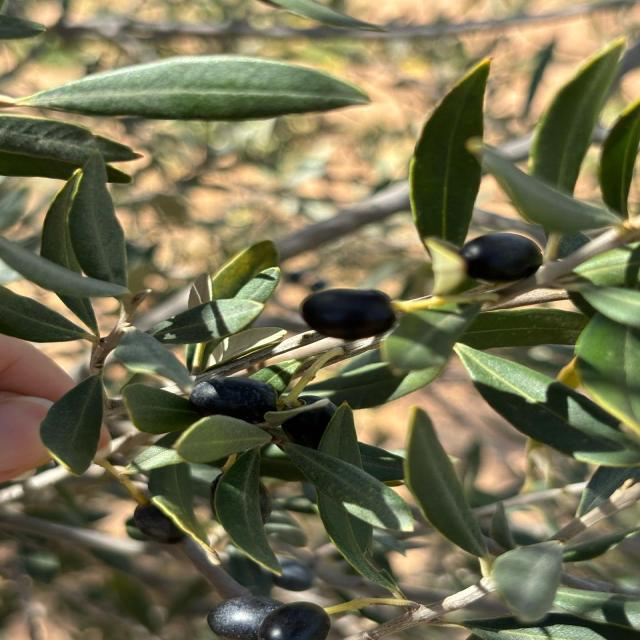Healthy: (0, 56, 369, 121), (289, 446, 412, 530), (213, 450, 280, 575), (69, 155, 126, 286), (41, 376, 103, 474), (301, 288, 395, 340), (460, 233, 542, 282), (189, 378, 277, 423)
